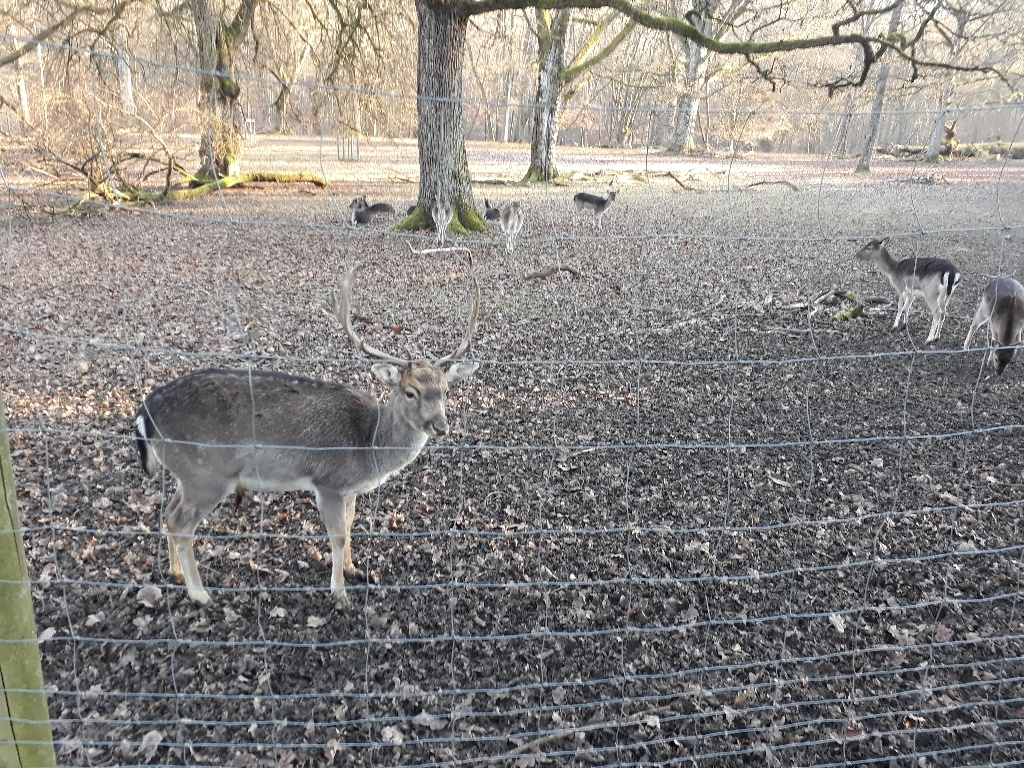Deer: (135, 272, 482, 606), (854, 237, 959, 346), (963, 277, 1024, 373)
